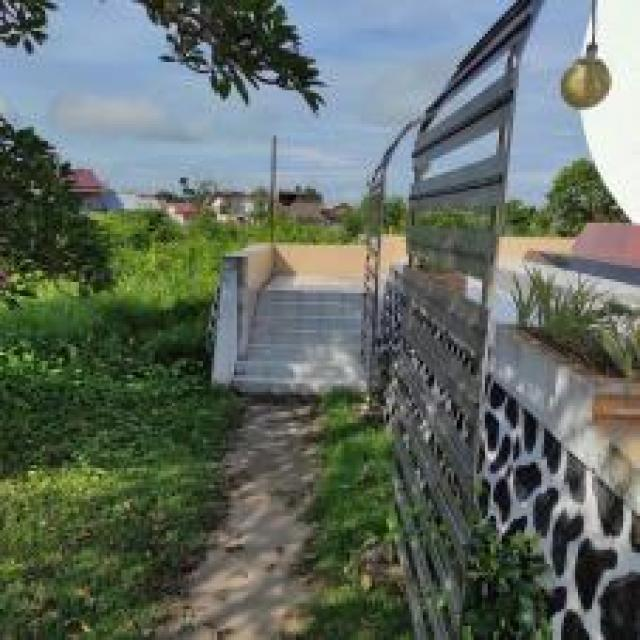upstair: (244, 278, 373, 416)
